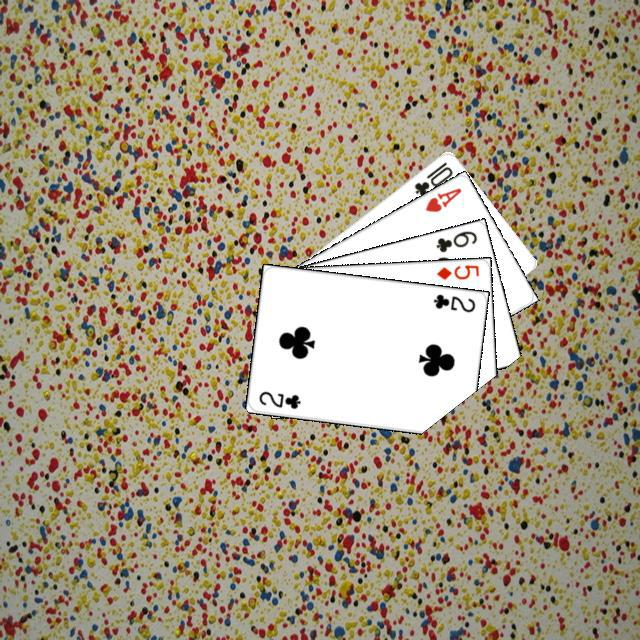10c: (409, 157, 454, 198)
2c: (428, 289, 477, 314), (254, 386, 302, 411)
5d: (432, 260, 481, 281)
6c: (431, 226, 479, 254)
Ah: (420, 183, 463, 214)
